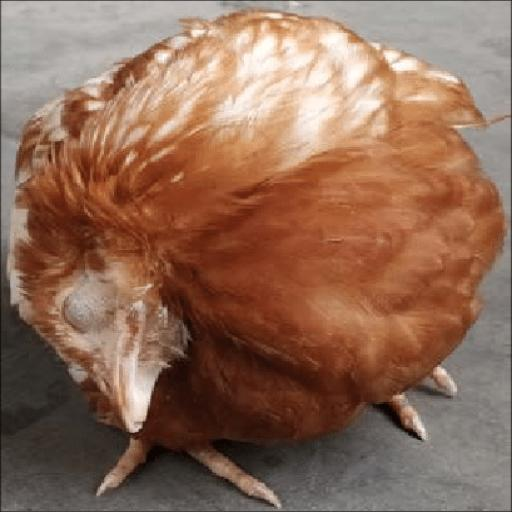disease: (30, 261, 167, 421)
